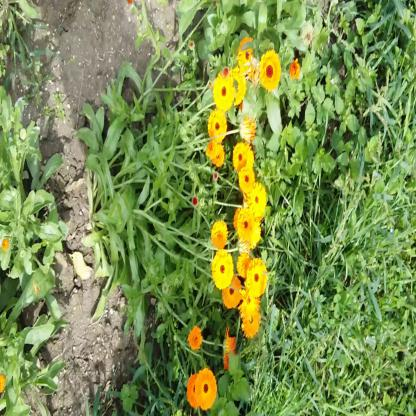marigold: (188, 369, 216, 408), (259, 48, 279, 93), (214, 70, 235, 111), (212, 252, 232, 291), (235, 208, 256, 244), (247, 261, 267, 297), (241, 309, 262, 342), (238, 36, 256, 68), (223, 277, 241, 309), (211, 220, 229, 251), (249, 183, 266, 215), (208, 106, 226, 136), (186, 325, 204, 350), (233, 140, 247, 171), (239, 166, 255, 190), (210, 143, 224, 169), (237, 252, 250, 277)
